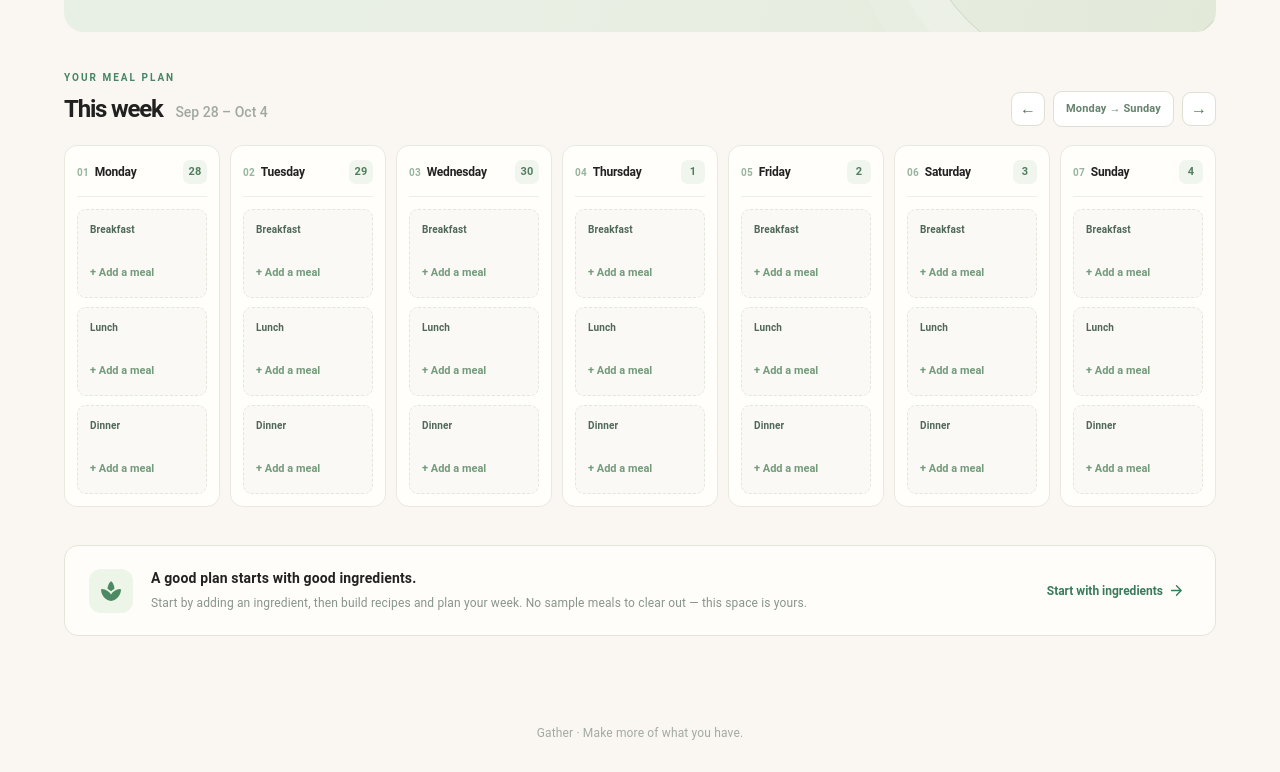
Test: weekly meal planner › guides a first-time user from the empty board to ingredients
(page scrolled)
Click the button "Start with ingredients" at (1116, 591), box [1041, 581, 1191, 601]
(page scrolled)
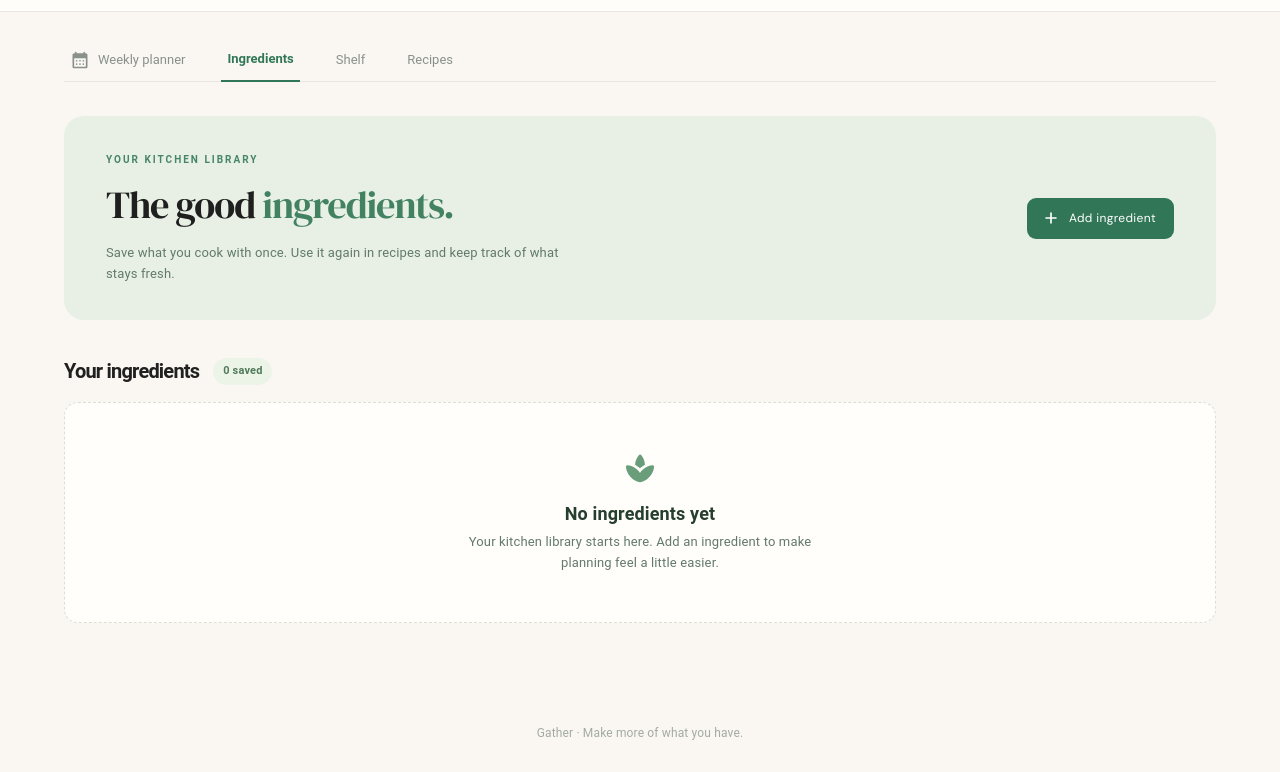
Now the heading "The good ingredients." is shown, box [106, 178, 454, 231]
